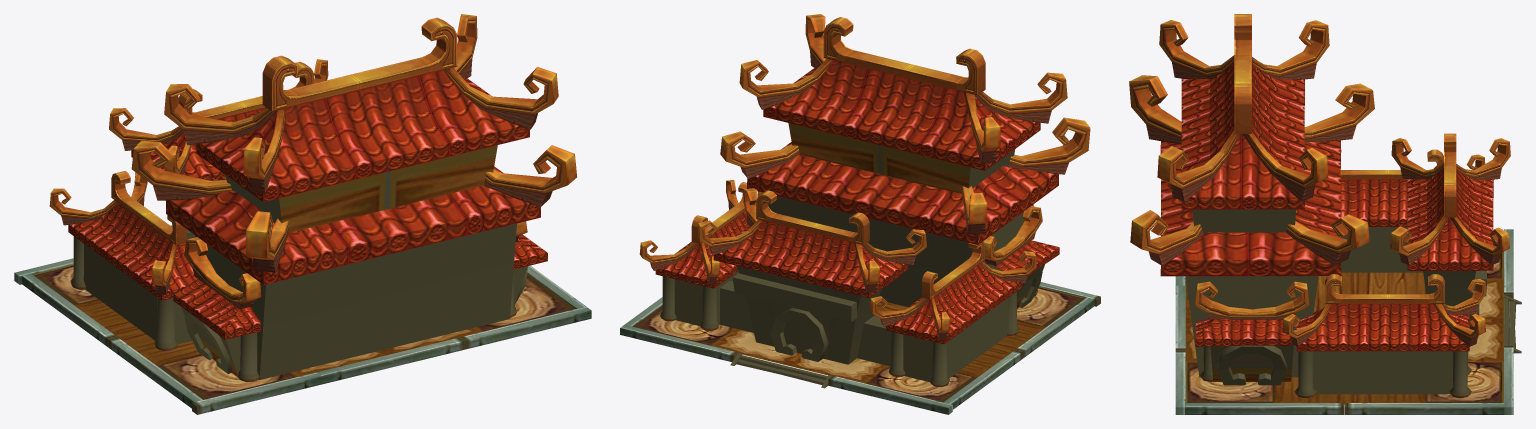
File: jianzhu05.FBX
3 views of the same model, side by side, from view 1: azimuth 30°, elevation 25°; view 2: azimuth 150°, elevation 25°; view 3: azimuth 270°, elevation 25° (orthographic). The views are drawn at different scales.
Visible parts, largest first — view 1: Object148; view 2: Object148; view 3: Object148.
Part boxes in pixels (<box>): Object148: <box>14,14,591,414</box>; Object148: <box>620,14,1100,414</box>; Object148: <box>1129,14,1521,414</box>.
Bounding box in the file's own units: 996 × 721 × 930.
